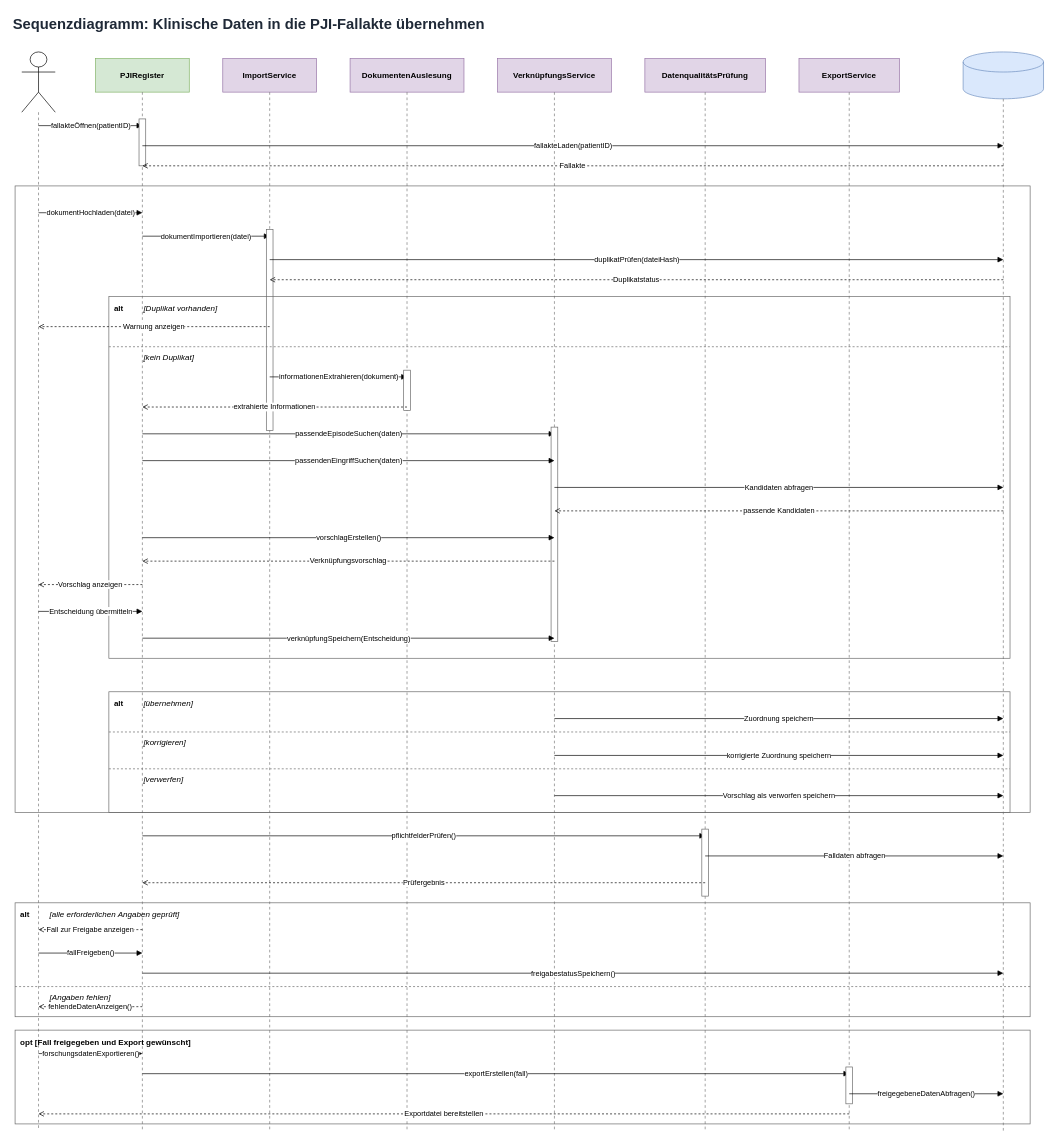
Image size: 1055x1143. Some labels were removed from this diagram. Here are the shapes that lost their labels. From the top down, the box of each, then its label:
(21, 51, 55, 112): Bearbeiter
(962, 51, 1044, 99): Datenbank
(14, 185, 1030, 812): loop [für jedes ausgewählte Dokument]
